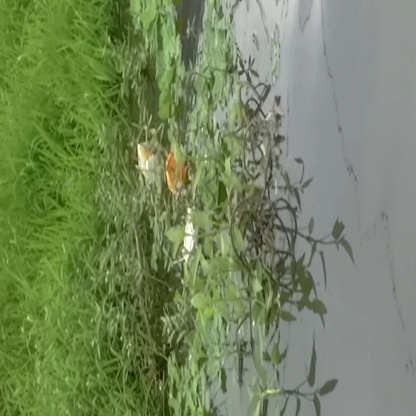milk-box: (131, 132, 166, 188)
